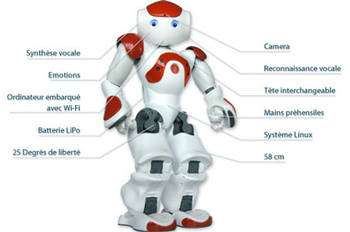nao: (104, 3, 237, 232)
